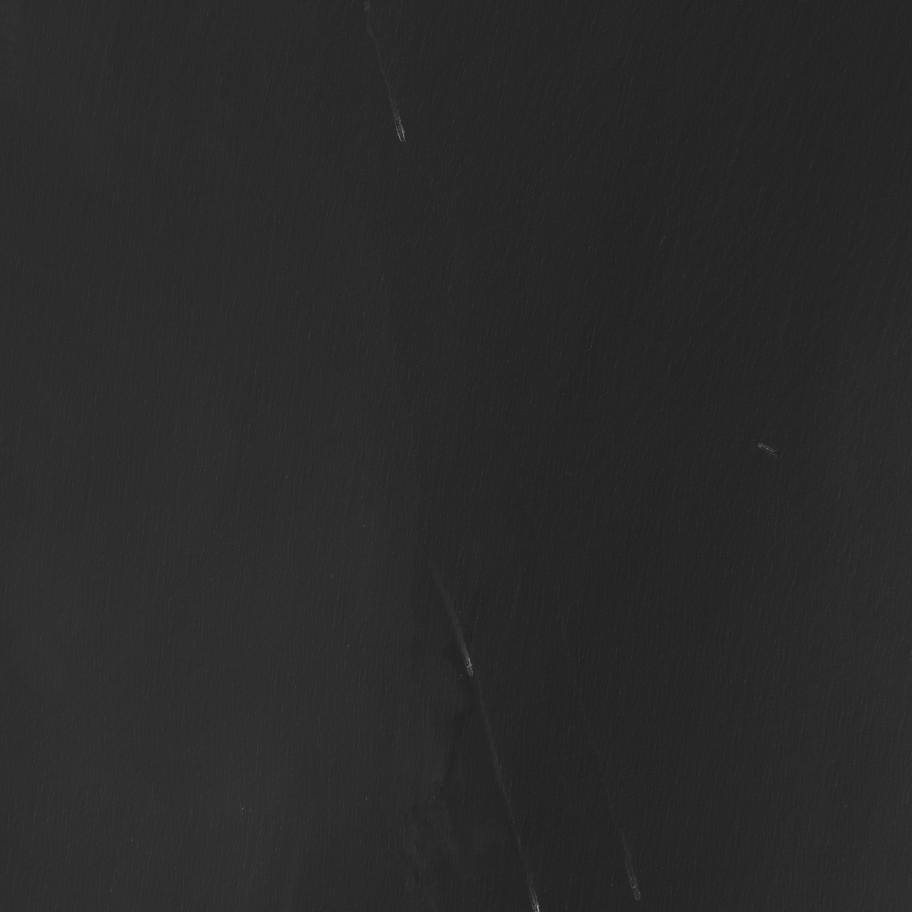ship: (756, 441, 779, 456), (394, 119, 407, 143), (630, 879, 642, 902), (465, 664, 473, 677), (467, 661, 471, 668), (535, 906, 539, 912)
